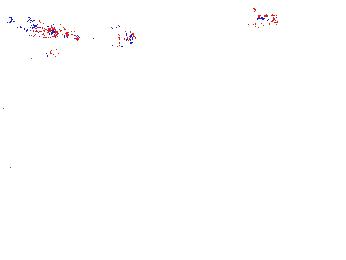X-ray fish: (301, 159, 339, 199), (103, 20, 137, 51)
red belly glassfish: (12, 15, 59, 40), (236, 10, 282, 29), (64, 28, 93, 44)
